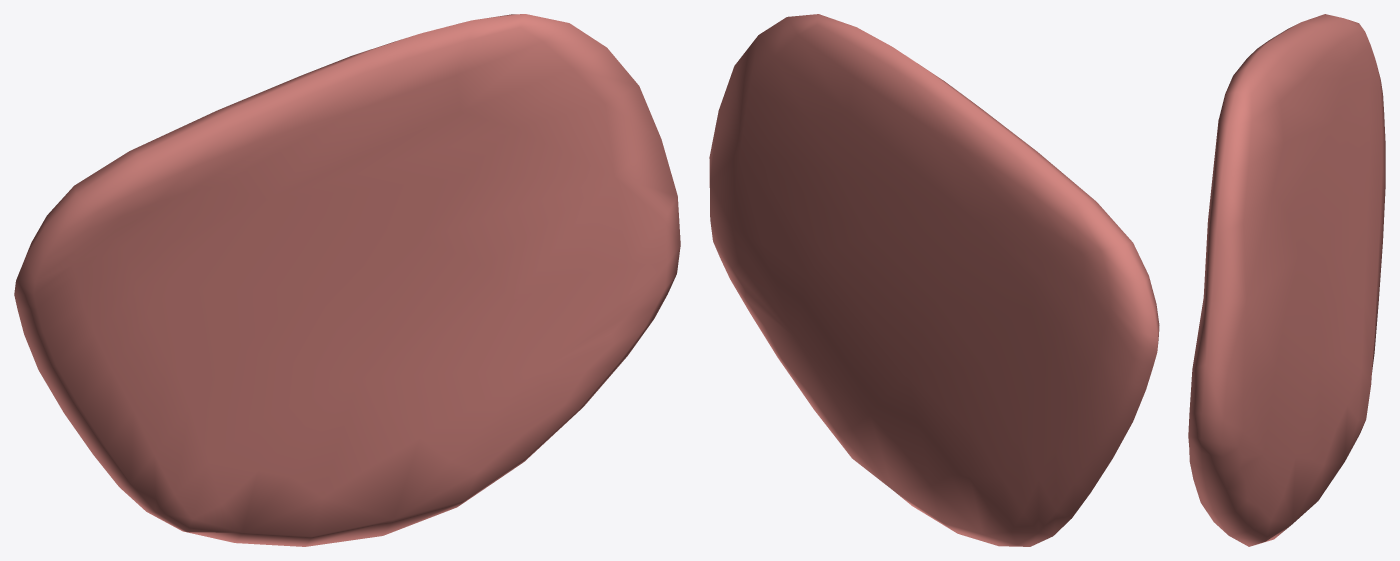
3 views of the same model, side by side, from view 1: azimuth 30°, elevation 25°; view 2: azimuth 150°, elevation 25°; view 3: azimuth 270°, elevation 25° (orthographic). The views are drawn at different scales.
Parts seen in each view (by area): view 1: ZA_2061b2e6ddbce029; view 2: ZA_2061b2e6ddbce029; view 3: ZA_2061b2e6ddbce029.
Part boxes in pixels (x1=…): ZA_2061b2e6ddbce029: x1=14, y1=14, x2=680, y2=546; ZA_2061b2e6ddbce029: x1=709, y1=14, x2=1159, y2=546; ZA_2061b2e6ddbce029: x1=1188, y1=14, x2=1385, y2=546.
Bounding box in the file's own units: 0.00626 × 0.00525 × 0.00183.
